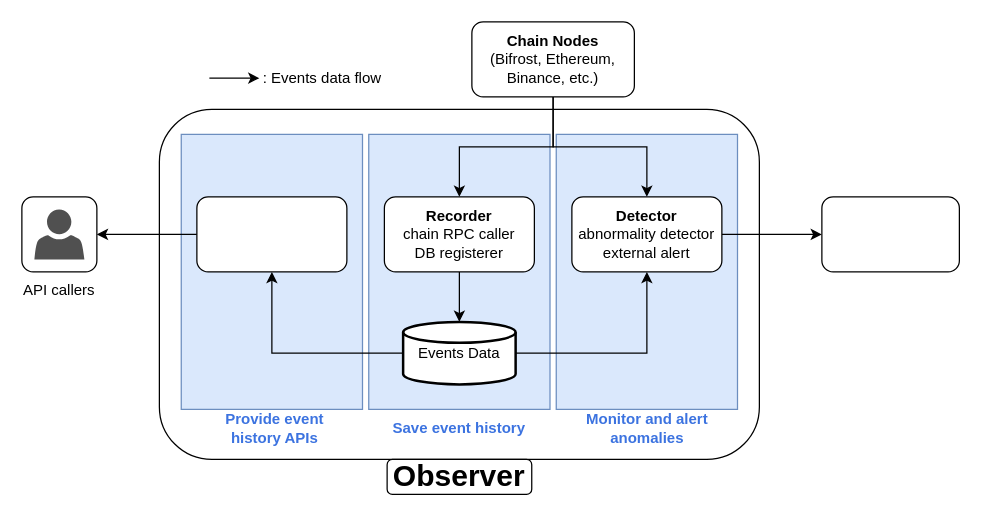
The diagram is 981 pixels wide and 516 high, and some of its shapes have lost their labels. Here are the shapes that lost their labels. From the top down, the centre of each, then its label:
At [271,234]: "Reader Rest API provider".
At [890,234]: "the subjects receiving the alarm (Slack, email, etc.)".
